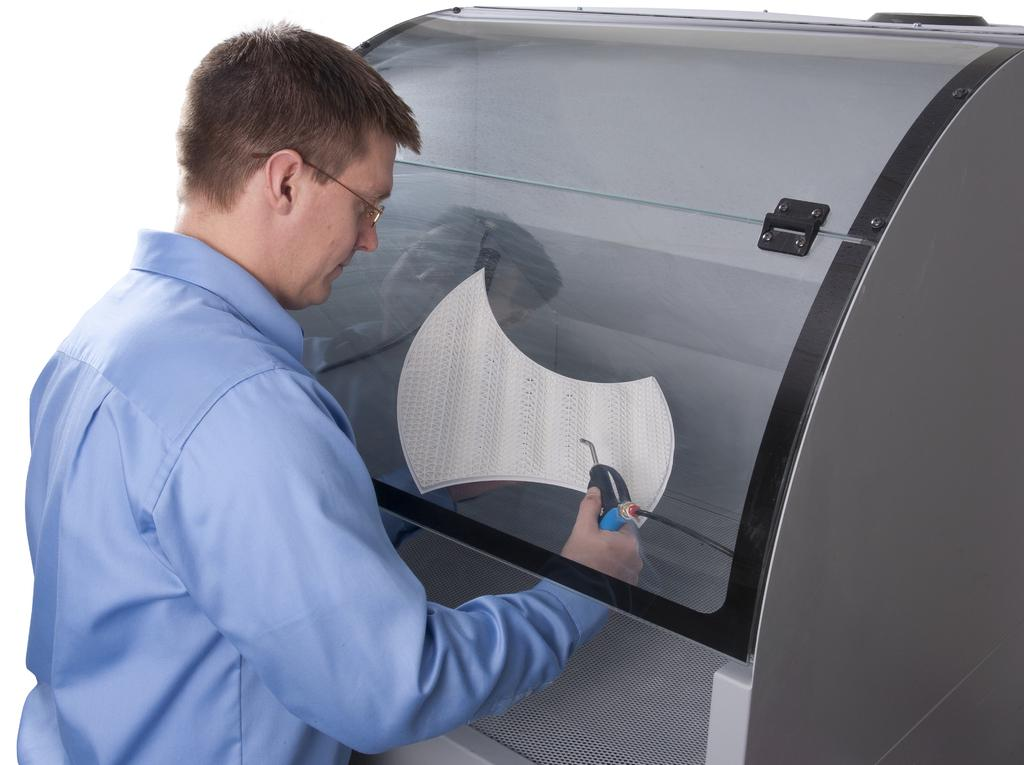no_helmet: (137, 106, 408, 338)
none: (21, 278, 552, 680)
